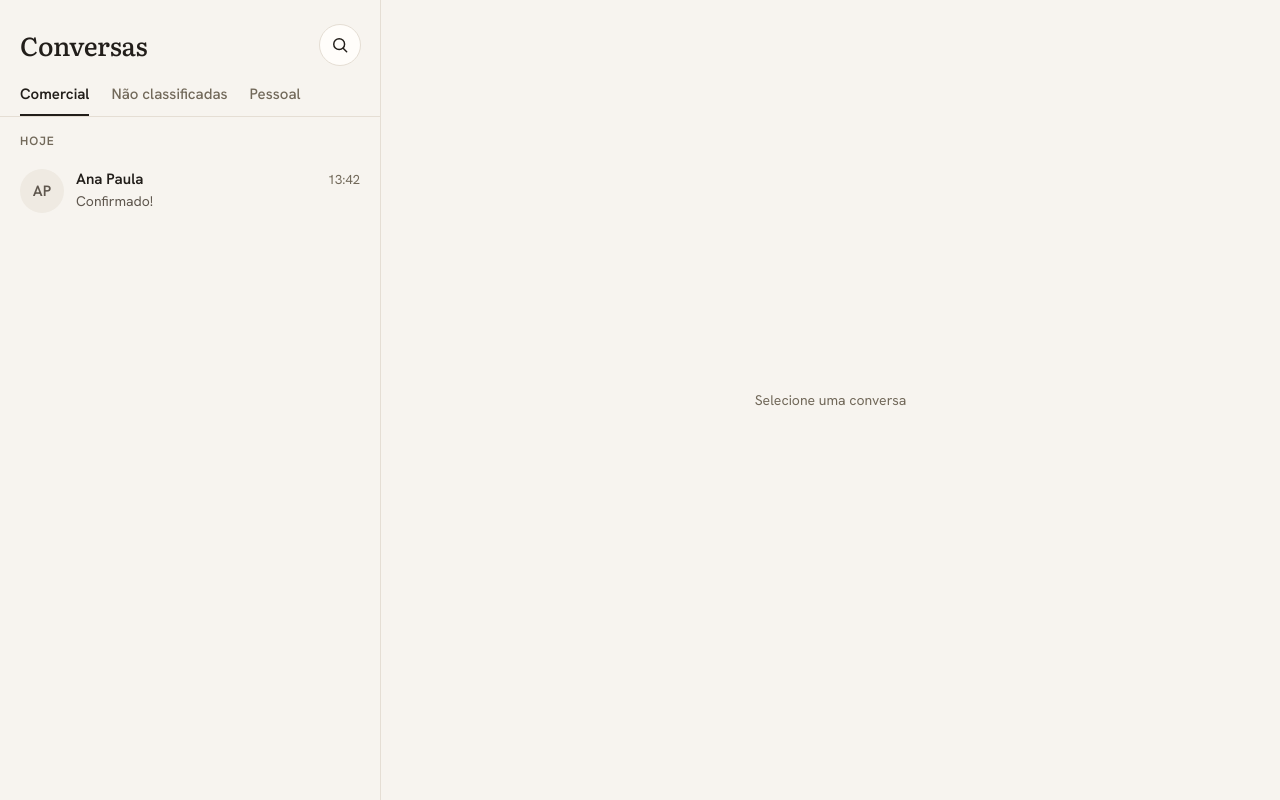
Test: cabeçalho e busca pela lupa › o título é um h1 e a busca só aparece depois da lupa
This screenshot has width=1280, height=800.
Expected: the text "Ana Paula" is shown, [76,169,143,189]
Expected: the heading "Conversas" is shown, [20,30,147,60]
What coordinates should you click on to do the following:
click the button named "Buscar conversas"
I would click on:
 (340, 45)
Its box is [318,23,362,67].
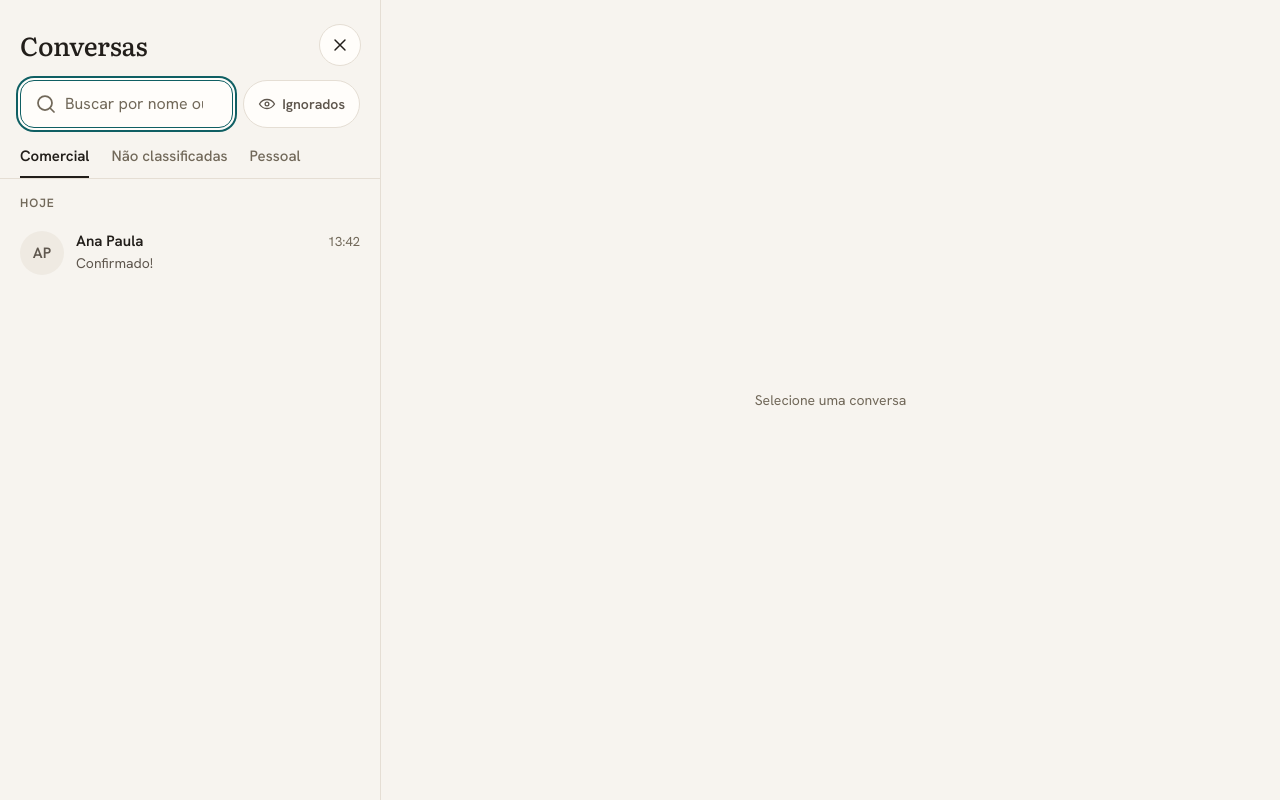
Expected: the button named "Buscar conversas" is expanded, [318,23,362,67]
Expected: the button "Ignorados" is shown, [243,80,360,128]
